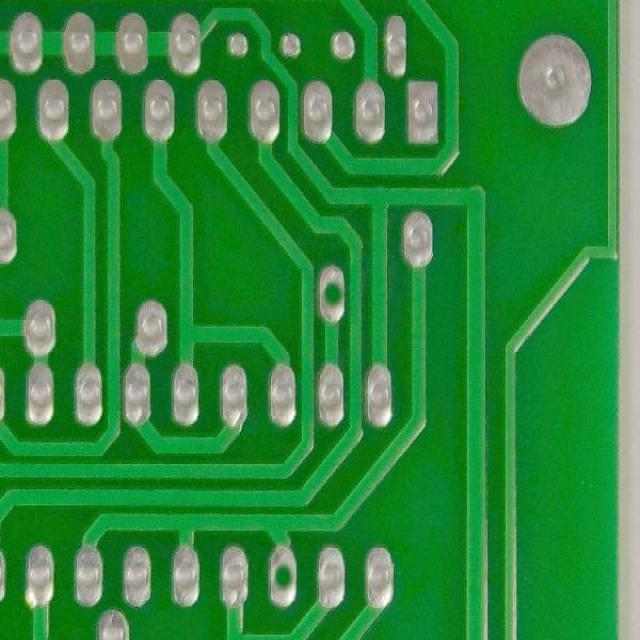missing hole: (264, 534, 303, 614), (312, 260, 351, 332)
